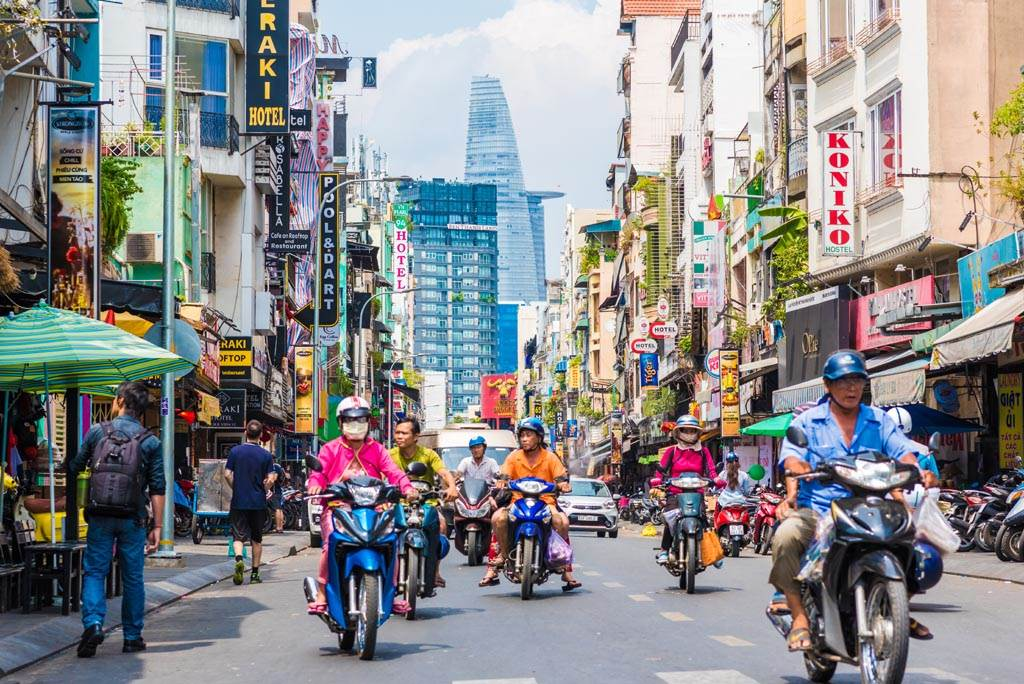car: (558, 467, 627, 539)
pedestrian: (80, 391, 174, 661), (227, 421, 274, 585)
scooter: (293, 463, 420, 653)
